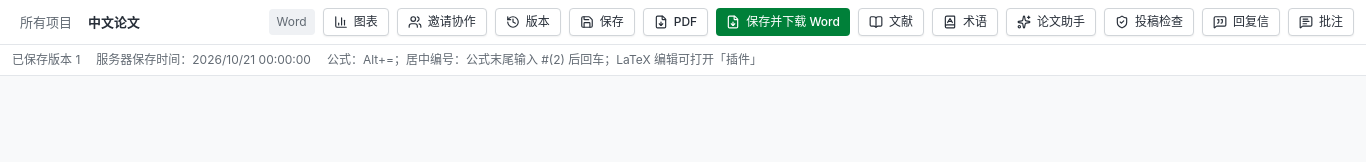
it: Word 工作台 › 干净稿件有服务端保存正在进行时不重复发送 forcesave
Click the button with test id "word-download" at (783,22), box [716, 8, 850, 36]
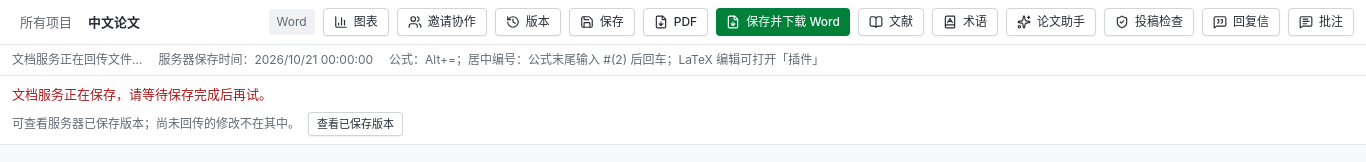
Expected: the text "请等待保存完成后再试" is shown, [12, 86, 272, 102]
